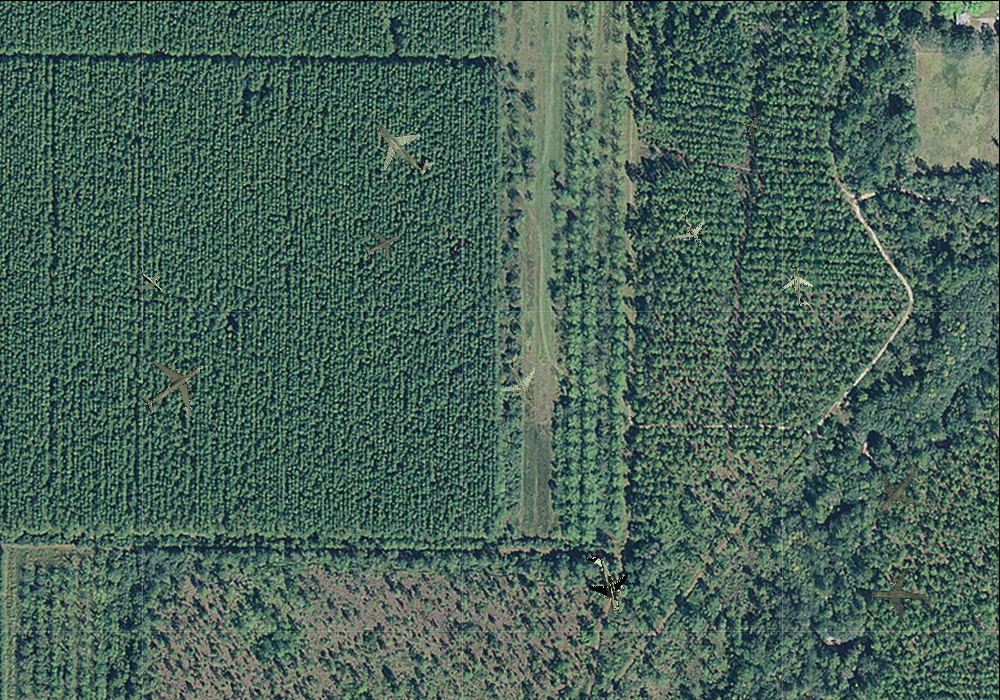plane: (124, 338, 221, 434), (356, 101, 448, 194), (856, 446, 940, 531), (571, 547, 640, 622), (487, 346, 554, 414), (868, 566, 936, 630), (666, 203, 718, 255), (357, 221, 405, 267), (778, 261, 820, 308), (734, 107, 777, 148), (129, 260, 170, 301)
